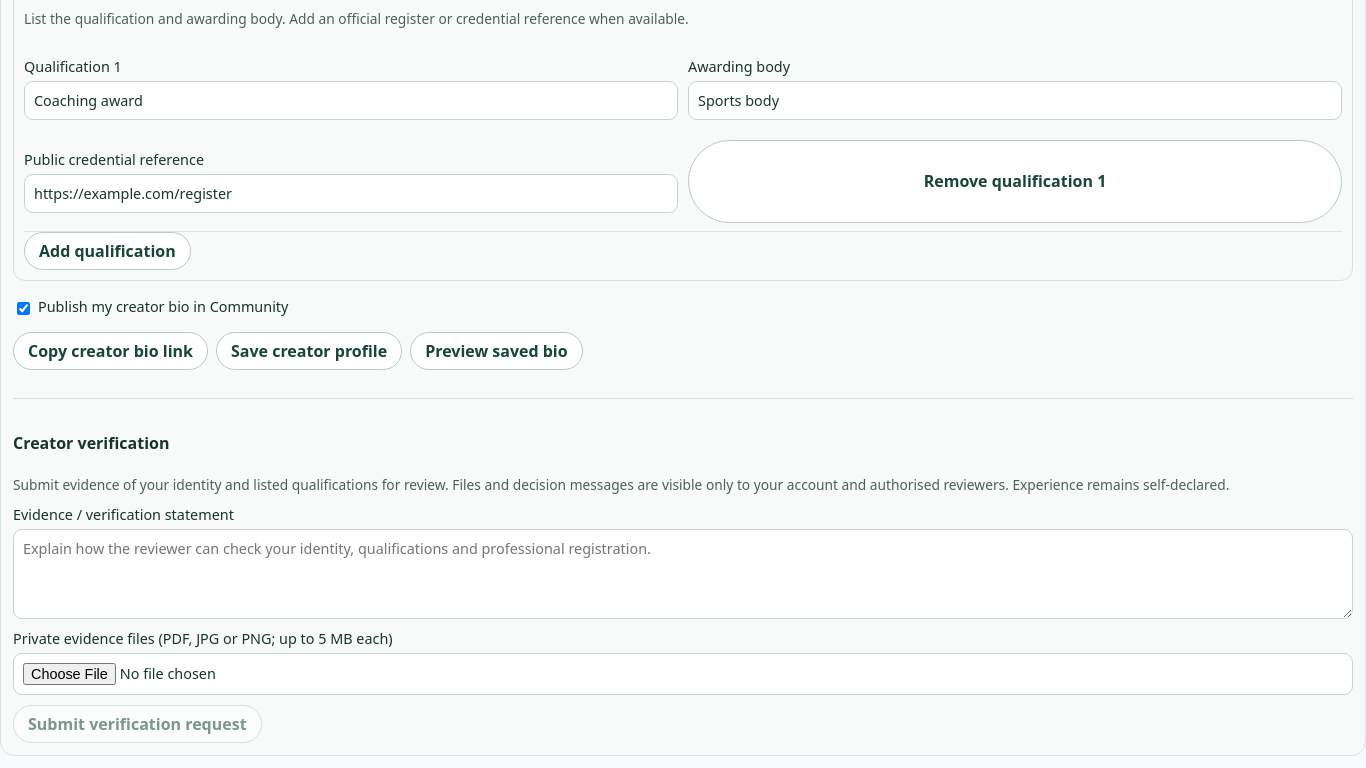
Test: creator biography and verification › does not submit changed qualifications before saving them
(page scrolled)
Replace the text in the text box labelled "Evidence / verification statement" with "Please check my certificate.": (683,574) x1=13 y1=529 x2=1353 y2=619
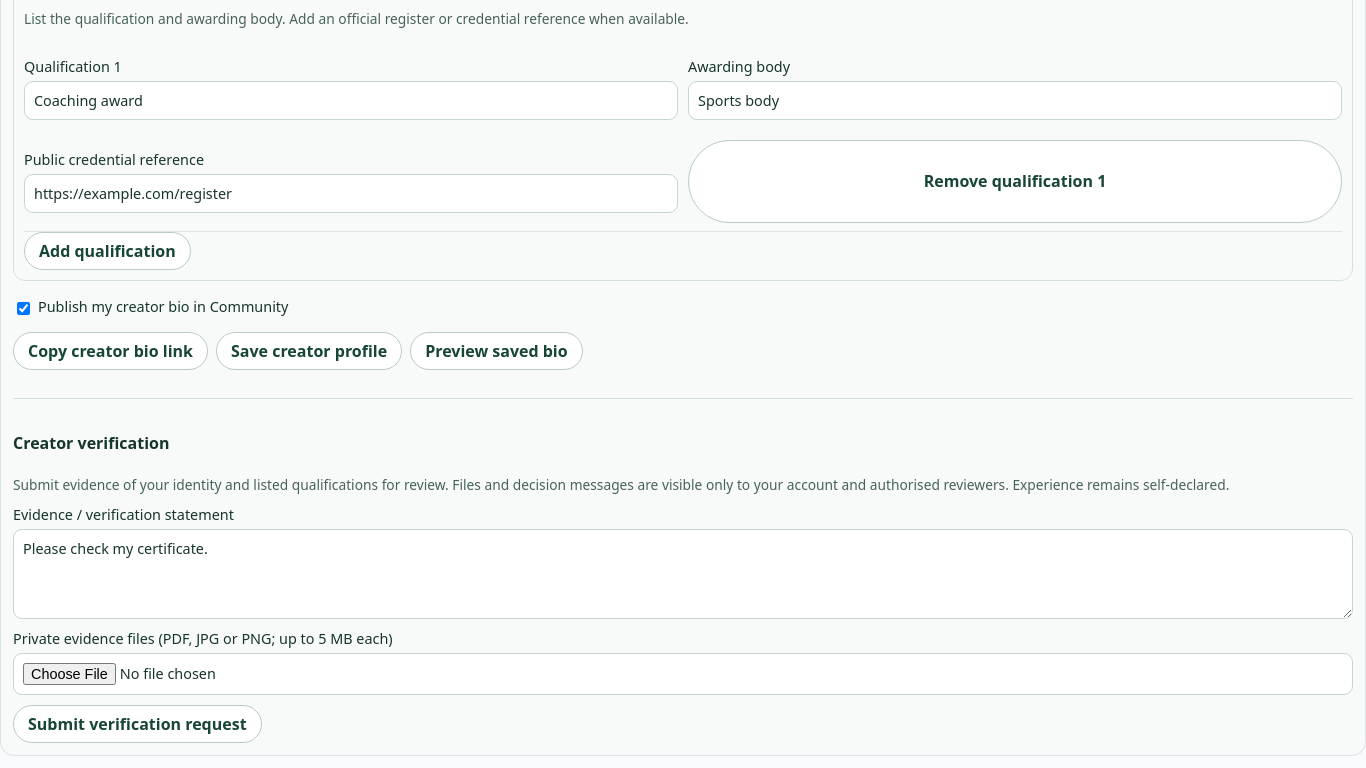
Expected: the button "Submit verification request" is enabled, x1=13 y1=705 x2=262 y2=743
Replace the text in the field labelled "Qualification 1" with "Different certificate": (351,100) x1=24 y1=81 x2=678 y2=120
(page scrolled)
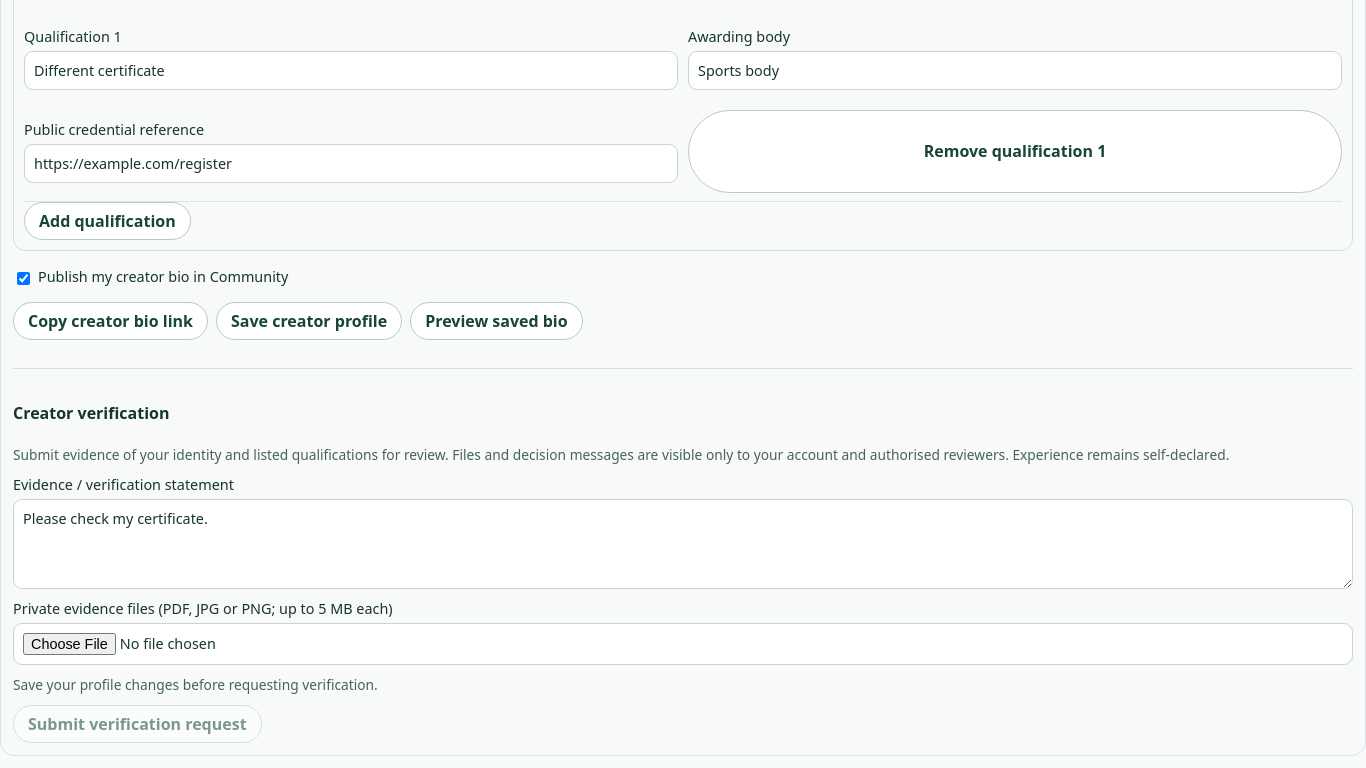
Expected: the button "Submit verification request" is disabled, x1=13 y1=705 x2=262 y2=743
